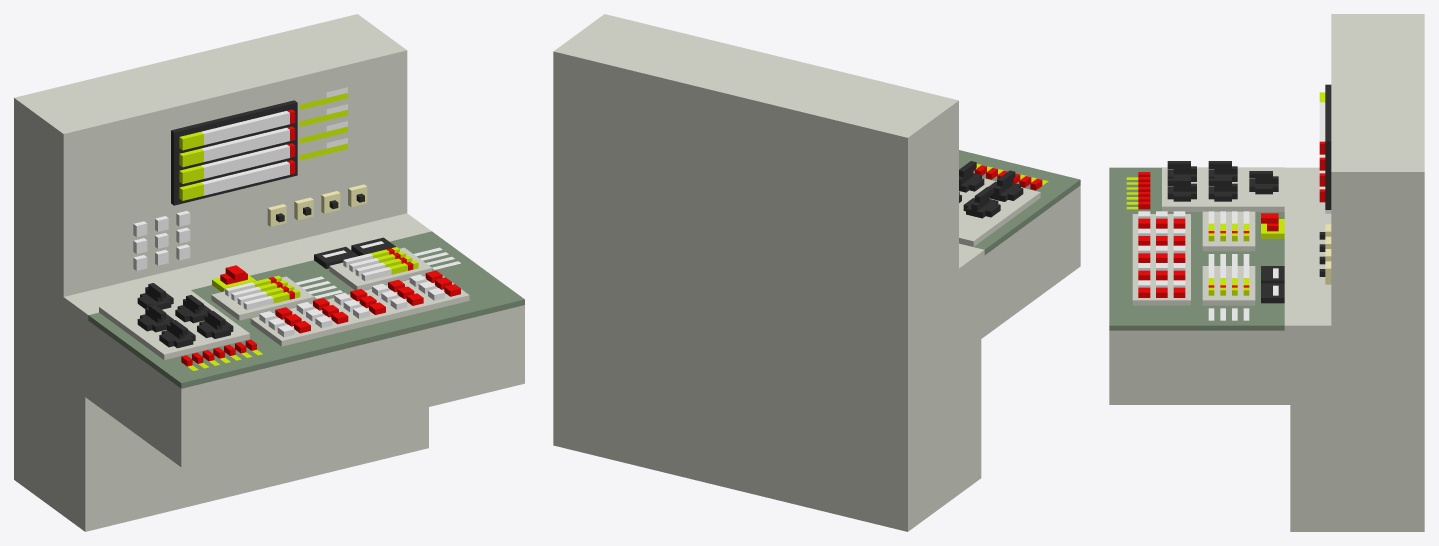
File: Control Panel7-1.fbx
The picture shows the model from 3 angles, left to right: view 1: azimuth 30°, elevation 25°; view 2: azimuth 150°, elevation 25°; view 3: azimuth 270°, elevation 25°; orthographic projection. The views are drawn at different scales.
Visible parts, largest first — view 1: Control Panel7-1.002, Control Panel7-1.001, Control Panel7-1.000; view 2: Control Panel7-1.002, Control Panel7-1.000, Control Panel7-1.001; view 3: Control Panel7-1.001, Control Panel7-1.002, Control Panel7-1.000.
Part boxes in pixels (bbox=[...]): Control Panel7-1.002: bbox=[14, 14, 407, 325]; Control Panel7-1.001: bbox=[57, 213, 524, 467]; Control Panel7-1.000: bbox=[14, 304, 428, 531]; Control Panel7-1.002: bbox=[553, 14, 958, 357]; Control Panel7-1.000: bbox=[553, 271, 987, 531]; Control Panel7-1.001: bbox=[952, 150, 1080, 338]; Control Panel7-1.001: bbox=[1109, 161, 1342, 404]; Control Panel7-1.002: bbox=[1319, 14, 1424, 373]; Control Panel7-1.000: bbox=[1278, 331, 1424, 531].
Bounding box in the file's own units: 6.4 × 6.8 × 5.4.
